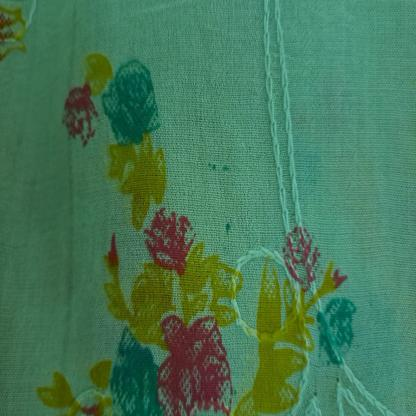spot: (204, 147, 220, 180), (217, 152, 234, 177), (222, 216, 235, 240)
